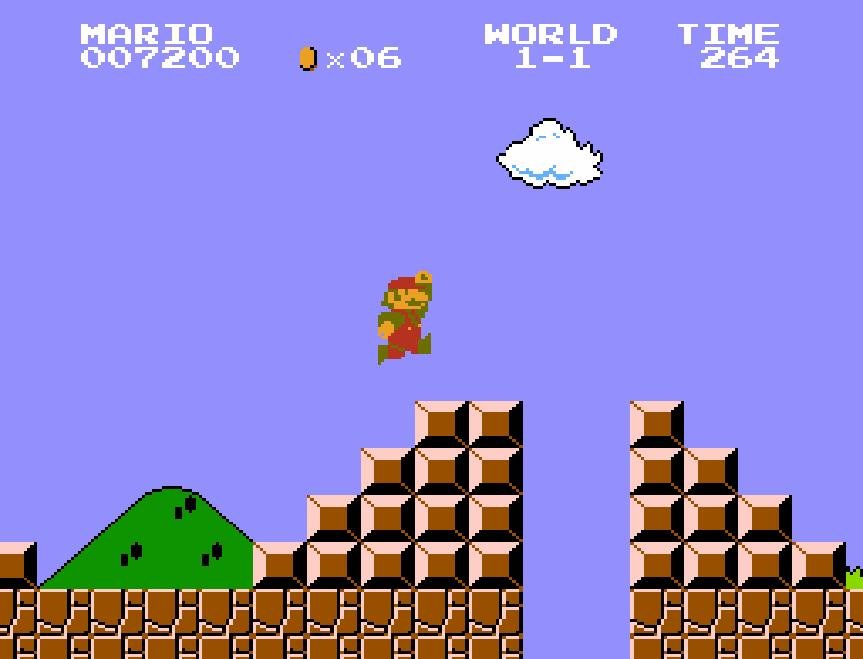big_mario: (376, 268, 434, 367)
